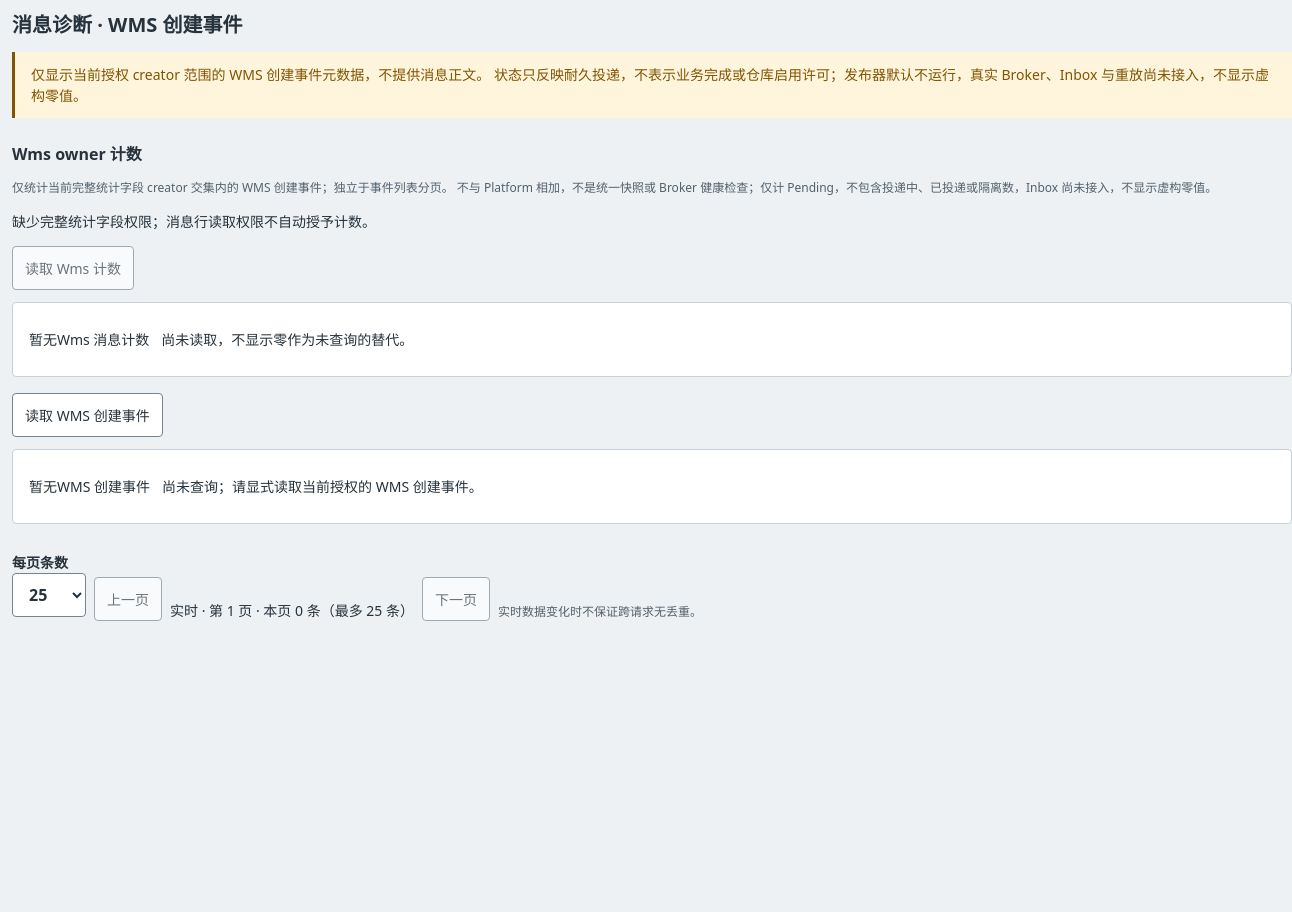
Test: clears old metadata on malformed or expanded row 0
This screenshot has width=1292, height=912.
Click the button with test id "read-wms-events".
click(87, 415)  # box x1=12 y1=393 x2=163 y2=437
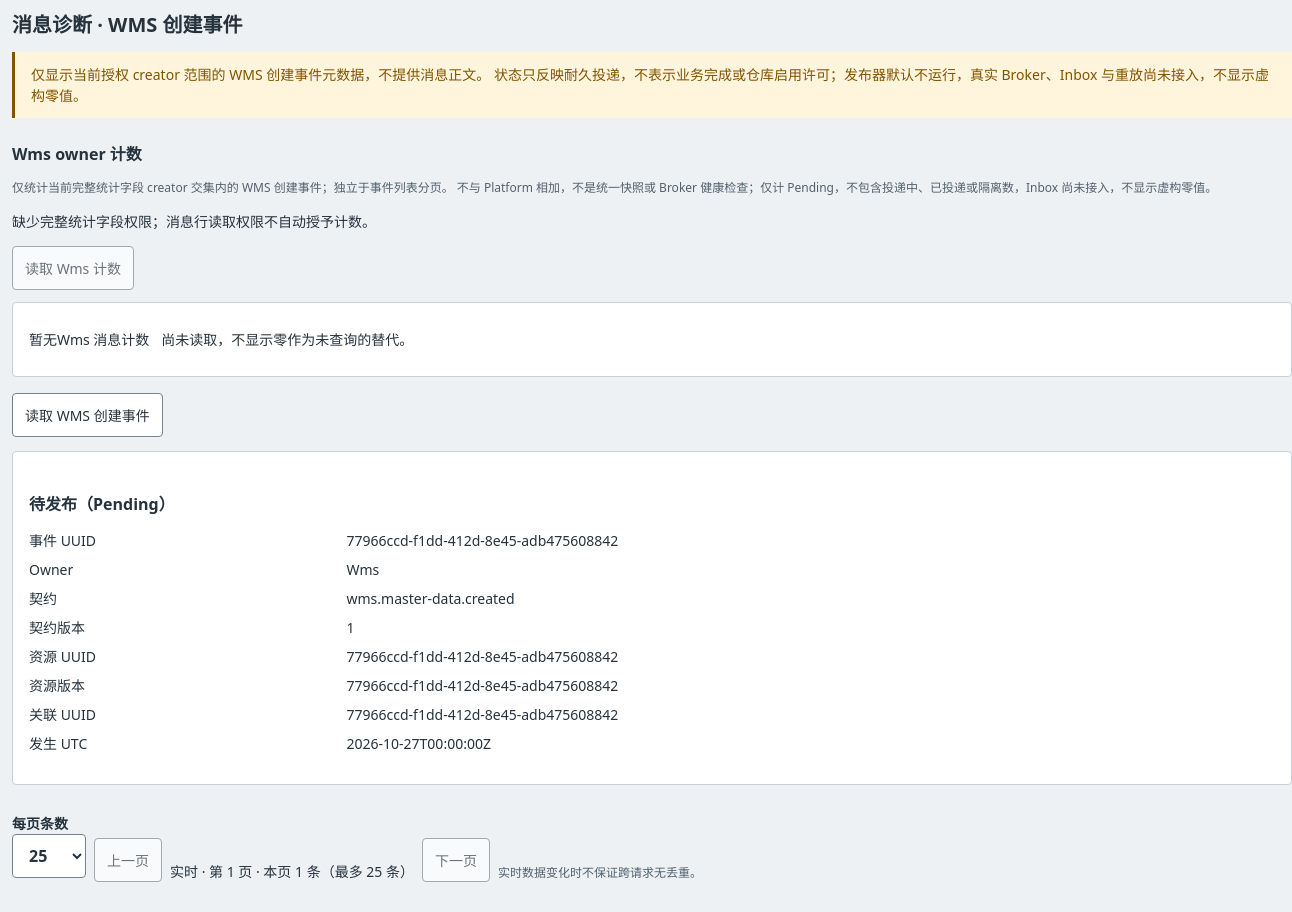
Click the button with test id "read-wms-events".
click(87, 415)  # box x1=12 y1=393 x2=163 y2=437
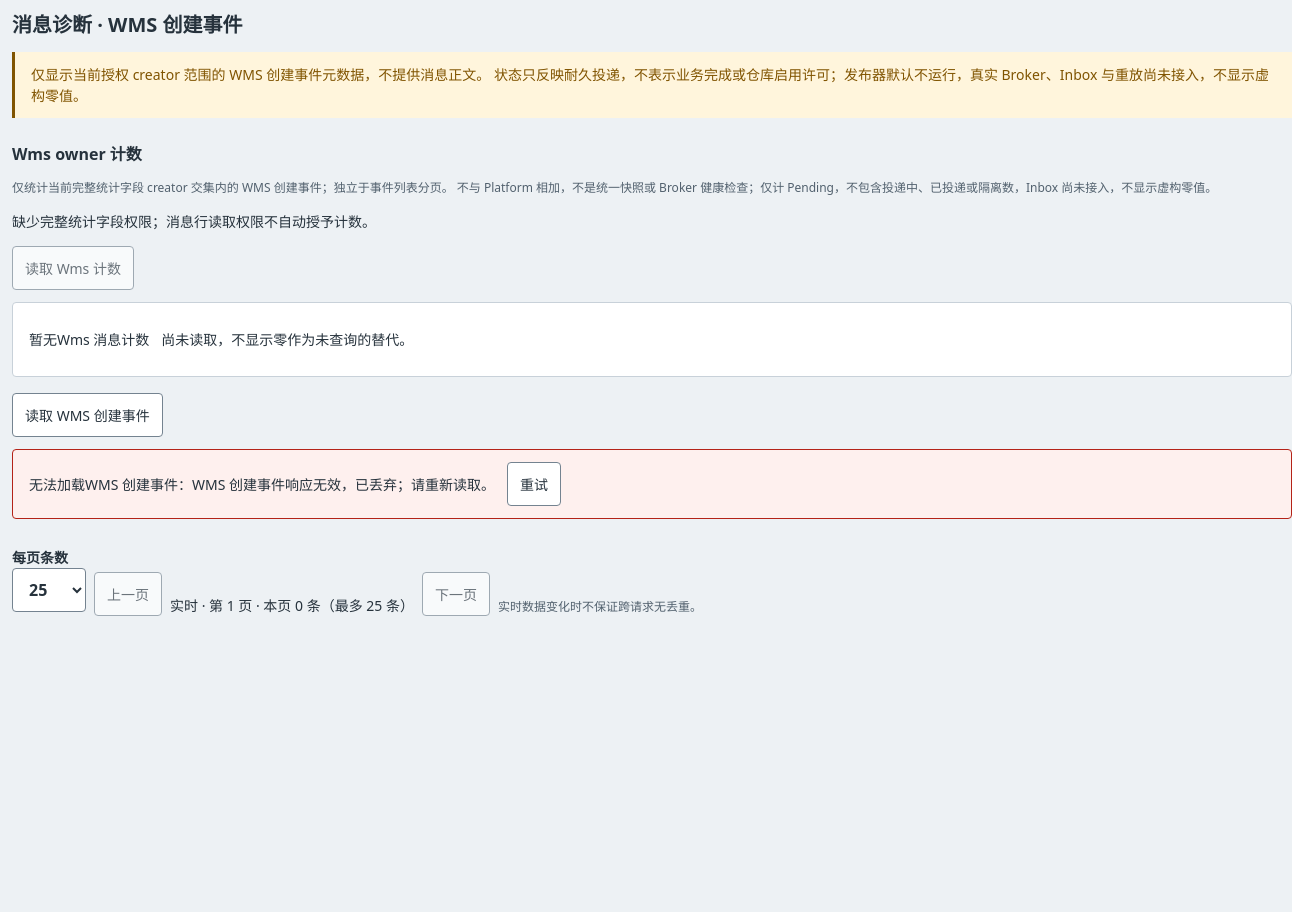
Check: the text "无效" is shown, box x1=29 y1=474 x2=495 y2=495
